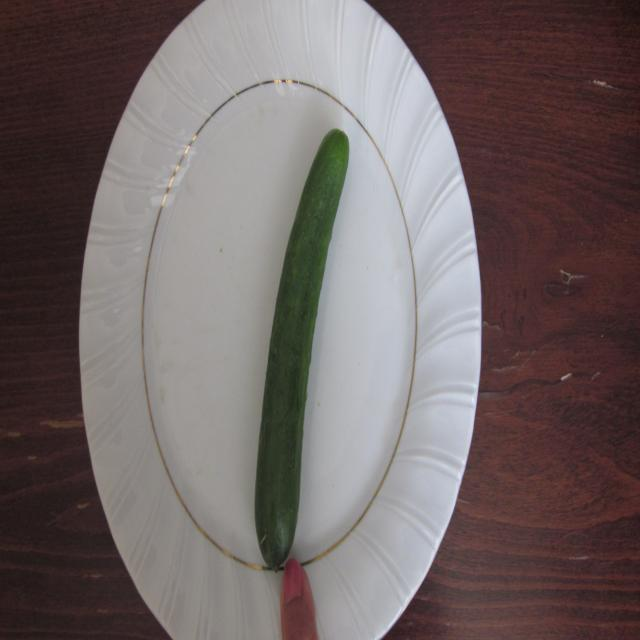cucumber: (227, 120, 354, 569)
